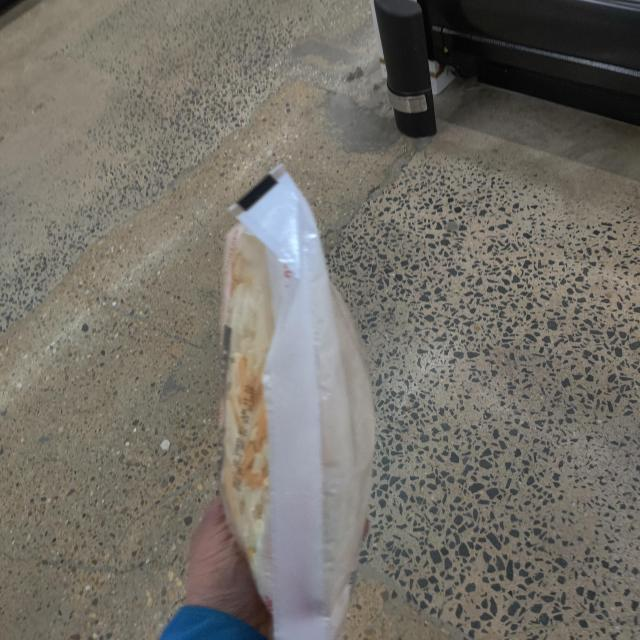Cheese: (227, 166, 370, 640)
